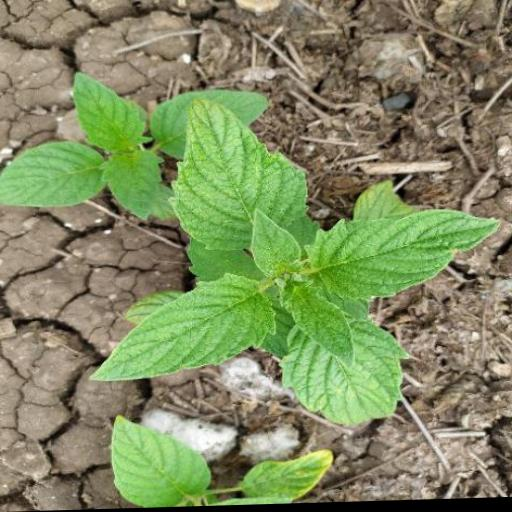crop: (78, 89, 502, 431), (39, 408, 358, 511)
